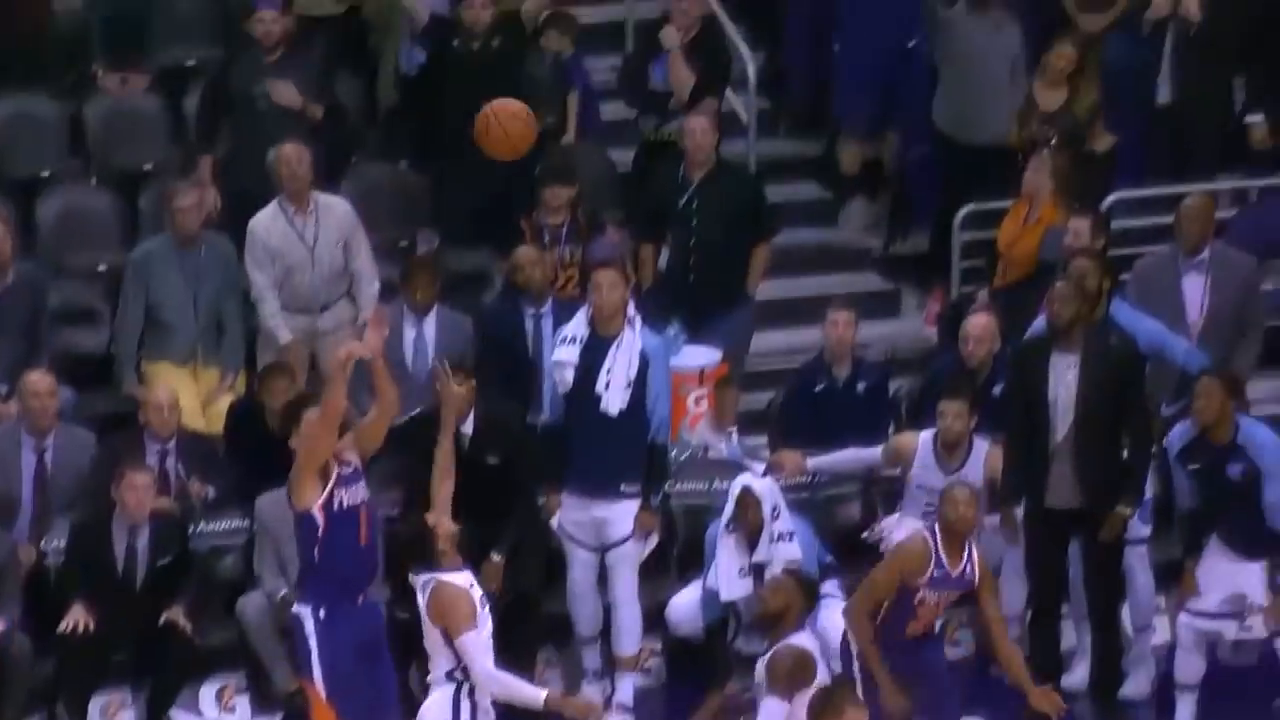ball: (473, 99, 542, 159)
